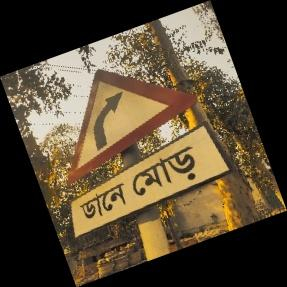Right-turn: (65, 69, 231, 242)
